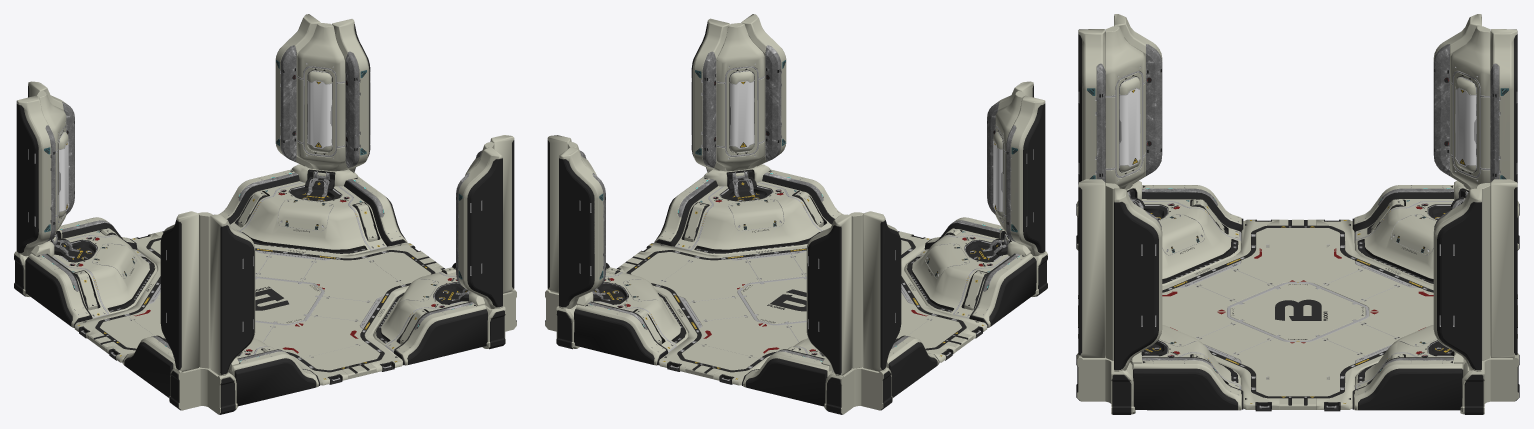
File: corridor_C.glb
3 views of the same model, side by side, from view 1: azimuth 30°, elevation 25°; view 2: azimuth 150°, elevation 25°; view 3: azimuth 270°, elevation 25° (orthographic). The views are drawn at different scales.
Parts seen in each view (by area): view 1: Cube.019_Piece.002_Piece.004_Piece.002; view 2: Cube.019_Piece.002_Piece.004_Piece.002; view 3: Cube.019_Piece.002_Piece.004_Piece.002.
Part boxes in pixels (x1,y1,x2,y2): Cube.019_Piece.002_Piece.004_Piece.002: (14, 14, 516, 414); Cube.019_Piece.002_Piece.004_Piece.002: (545, 14, 1047, 414); Cube.019_Piece.002_Piece.004_Piece.002: (1076, 14, 1519, 414).
Bounding box in the file's own units: 5.3 × 2.86 × 5.3.
11 materials, 1 textured.
